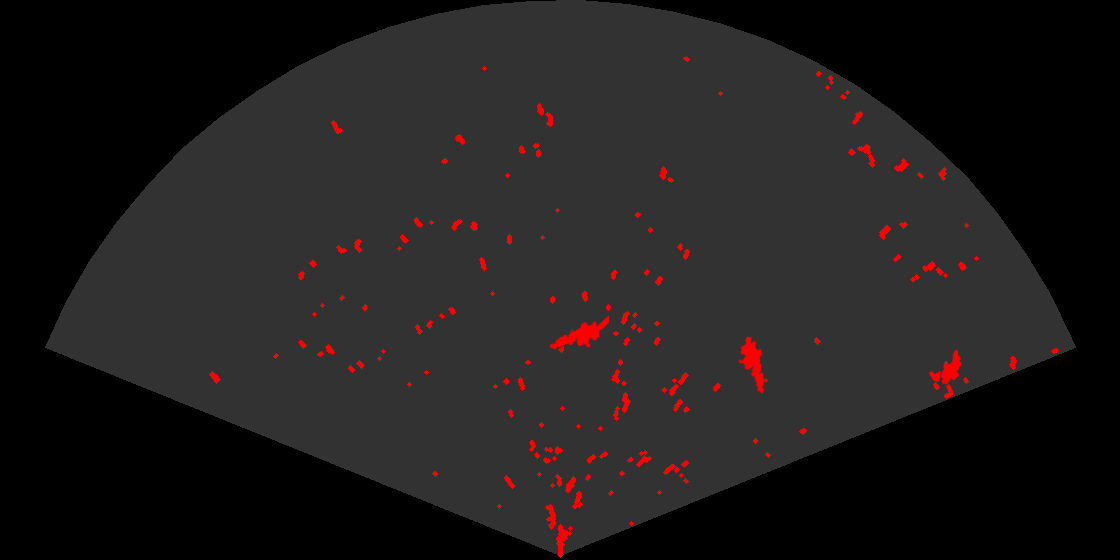AUV: (939, 348, 963, 386)
frogman: (548, 314, 609, 351), (736, 337, 766, 395)
